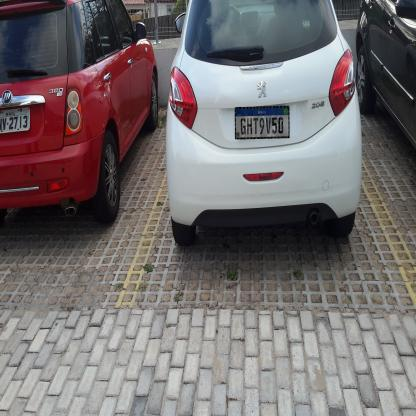PlacaM: (234, 106, 290, 139)
